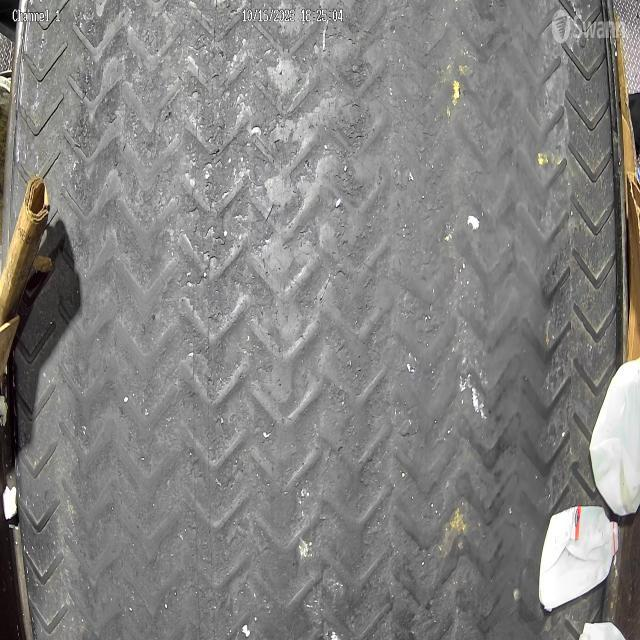milk_jug: (538, 508, 619, 613), (589, 356, 640, 516)
